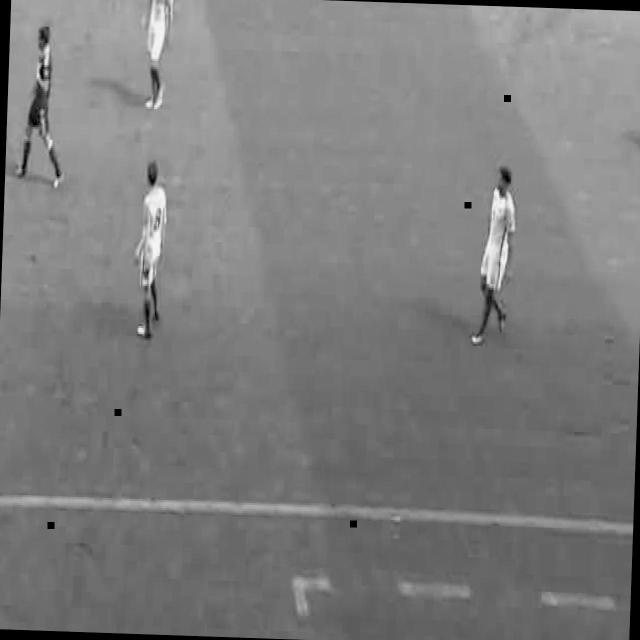player-white: (15, 23, 67, 187), (472, 161, 518, 344), (133, 158, 167, 338), (139, 0, 176, 109)
